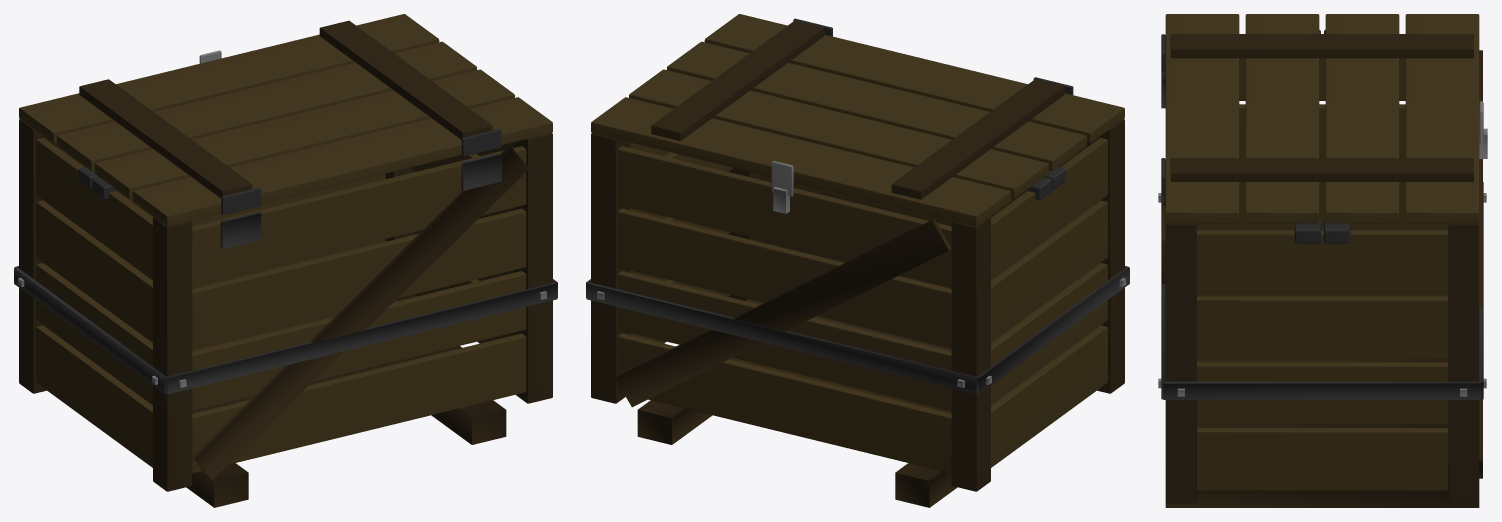
File: mazy-coffre.glb
3 renders of one model, left to right at view 1: azimuth 30°, elevation 25°; view 2: azimuth 150°, elevation 25°; view 3: azimuth 270°, elevation 25°, orthographic. The views are drawn at different scales.
Parts seen in each view (by area): view 1: Coffre, Couvercle; view 2: Coffre, Couvercle; view 3: Coffre, Couvercle.
Part boxes in pixels (x1=…): Coffre: x1=14, y1=119, x2=557, y2=507; Couvercle: x1=19, y1=14, x2=552, y2=226; Coffre: x1=586, y1=119, x2=1129, y2=507; Couvercle: x1=591, y1=14, x2=1124, y2=226; Coffre: x1=1158, y1=29, x2=1487, y2=507; Couvercle: x1=1161, y1=14, x2=1483, y2=223.
Bounding box in the file's own units: 0.928 × 0.695 × 0.63.
